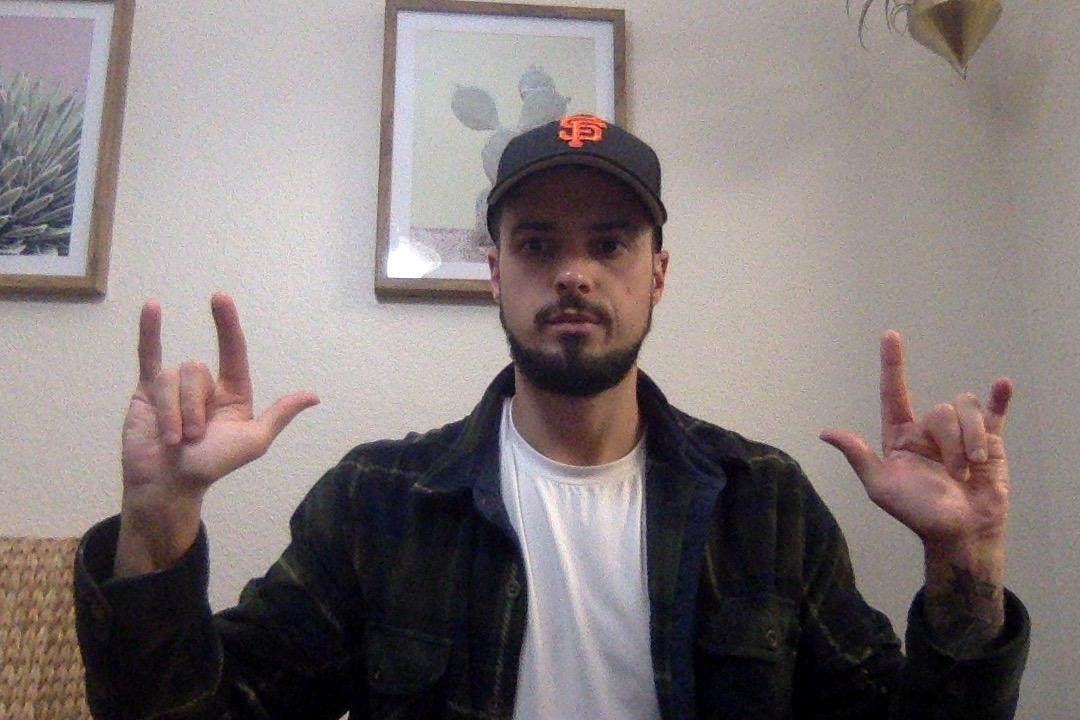Love-You: (98, 280, 322, 513), (813, 322, 1022, 560)
